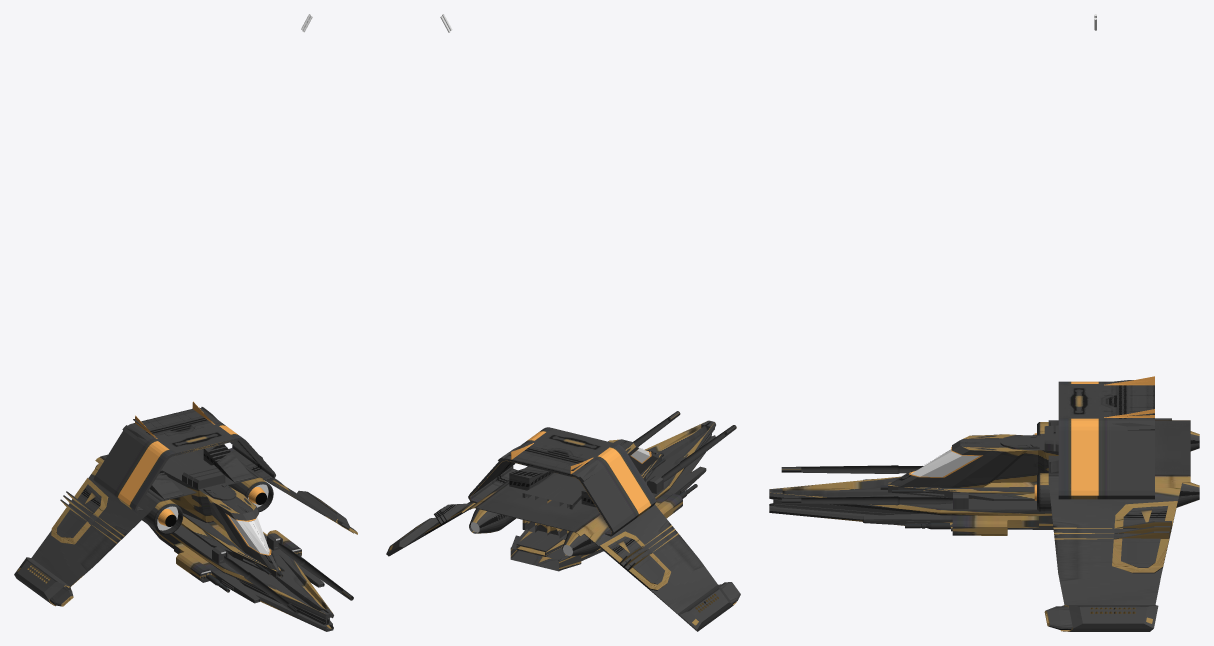
Rendered from Ship.dae.
3 views of the same model, side by side, from view 1: azimuth 30°, elevation 25°; view 2: azimuth 150°, elevation 25°; view 3: azimuth 270°, elevation 25° (orthographic). The views are drawn at different scales.
Visible parts, largest first — view 1: Cube.001, Cube.004, Cube, Cube.002, Cube.003, Cylinder.003, Cylinder.002; view 2: Cube.001, Cube, Cube.004, Cube.002, Cube.003, Cylinder.002, Cylinder.003; view 3: Cube.001, Cube, Cube.004, Cube.002, Cube.003, Cylinder.002.
Part boxes in pixels (x1,y1,x2,y2): Cube.001: (14, 444, 357, 606); Cube.004: (148, 524, 353, 631); Cube: (93, 401, 275, 513); Cube.002: (162, 451, 278, 570); Cube.003: (181, 513, 281, 577); Cylinder.003: (95, 464, 183, 534); Cylinder.002: (228, 478, 273, 512); Cube.001: (386, 466, 740, 631); Cube: (468, 427, 656, 536); Cube.004: (510, 411, 736, 571); Cube.002: (522, 439, 658, 539); Cube.003: (516, 453, 661, 556); Cylinder.002: (469, 508, 515, 533); Cylinder.003: (562, 531, 599, 556); Cube.001: (1044, 418, 1190, 631); Cube: (1058, 376, 1154, 499); Cube.004: (769, 465, 1053, 535); Cube.002: (890, 425, 1058, 487); Cube.003: (888, 482, 1036, 500); Cylinder.002: (1034, 473, 1199, 511).
Size of the model in its own units: 9.13 by 9.66 by 14.89.
6 materials, 1 textured.
